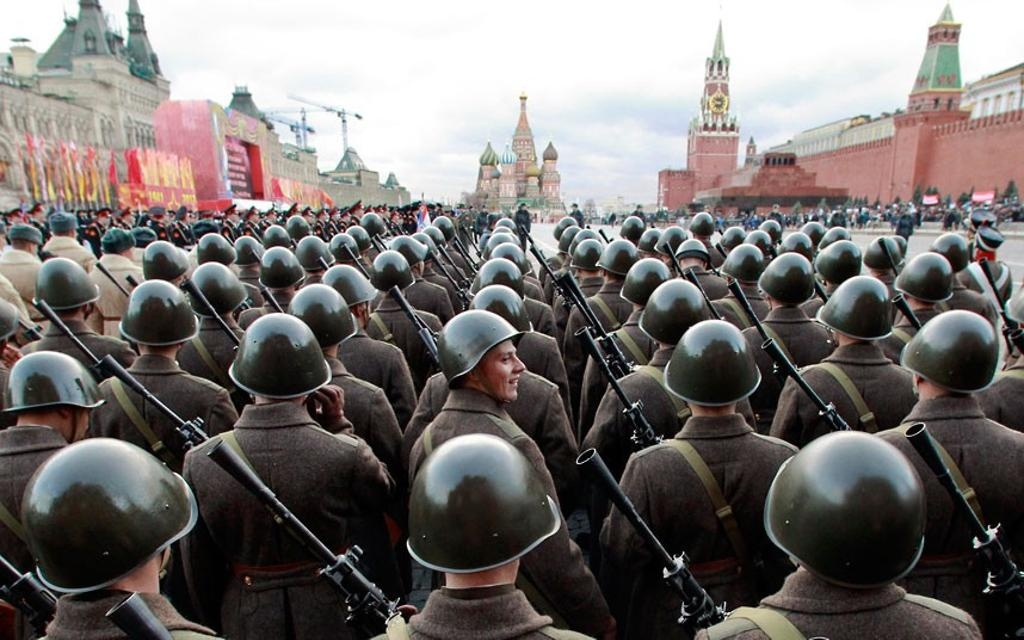human_face: (474, 341, 524, 402), (10, 208, 22, 224), (99, 208, 109, 222), (33, 204, 43, 216), (354, 204, 364, 216), (292, 208, 300, 218), (250, 210, 258, 220), (230, 208, 236, 220), (342, 212, 350, 220), (268, 210, 274, 220), (320, 210, 326, 218), (304, 212, 312, 218)
